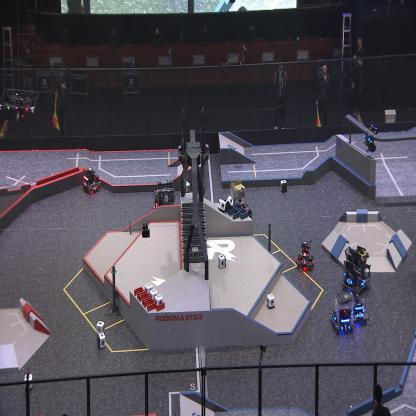car: (342, 244, 371, 292), (152, 180, 176, 224), (330, 290, 354, 332), (229, 180, 252, 222), (350, 293, 368, 327), (82, 166, 101, 196), (296, 240, 314, 271)
